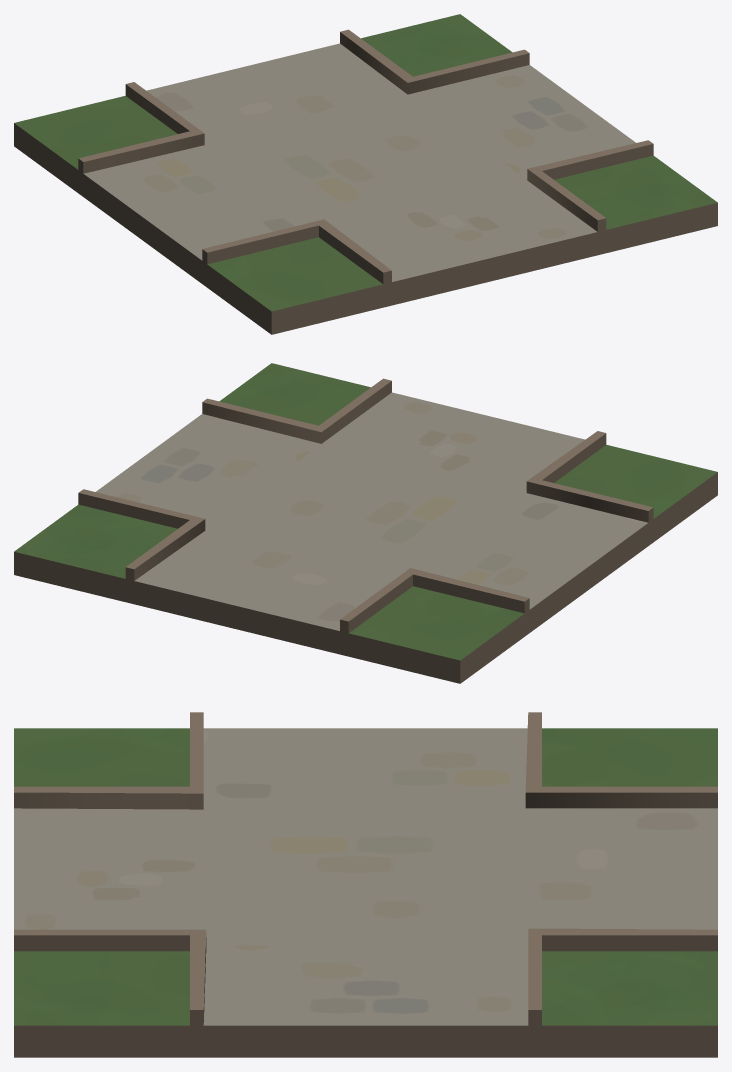
The model's file is Road_04.fbx.
The picture shows the model from 3 angles, top to bottom: view 1: azimuth 30°, elevation 25°; view 2: azimuth 150°, elevation 25°; view 3: azimuth 270°, elevation 25°; orthographic projection. The views are drawn at different scales.
Parts seen in each view (by area): view 1: Road_04; view 2: Road_04; view 3: Road_04.
Part boxes in pixels (left/top/right/bottom): Road_04: left=14, top=14, right=717, bottom=334; Road_04: left=14, top=363, right=717, bottom=683; Road_04: left=14, top=712, right=717, bottom=1057.
Size of the model in its own units: 400 by 30 by 400.
1 material, 1 textured.
